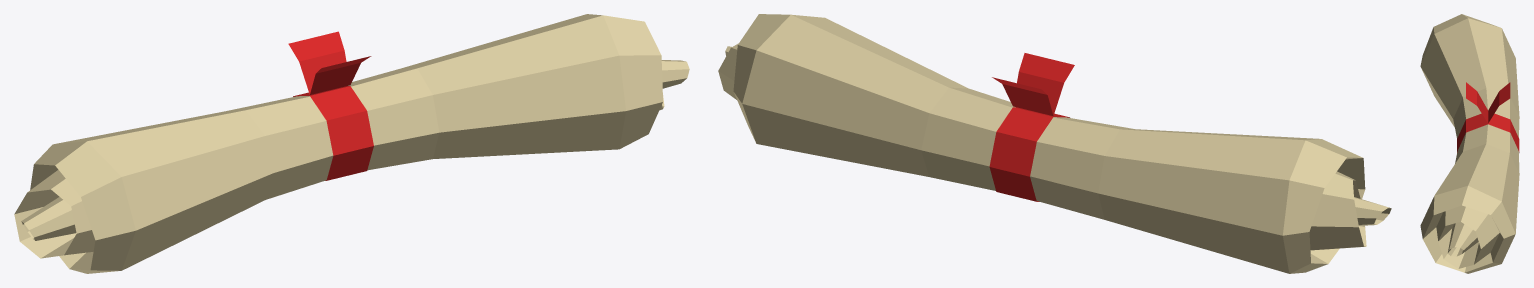
Rendered from Scroll.FBX.
3 views of the same model, side by side, from view 1: azimuth 30°, elevation 25°; view 2: azimuth 150°, elevation 25°; view 3: azimuth 270°, elevation 25° (orthographic). The views are drawn at different scales.
Visible parts, largest first — view 1: Cylinder001, Object001; view 2: Cylinder001, Object001; view 3: Cylinder001, Object001.
Part boxes in pixels (<box>): Cylinder001: <box>14,14,689,273</box>; Object001: <box>288,31,373,180</box>; Cylinder001: <box>718,14,1391,273</box>; Object001: <box>989,53,1074,201</box>; Cylinder001: <box>1420,14,1519,273</box>; Object001: <box>1457,82,1519,152</box>.
Size of the model in its own units: 24.7 by 5.35 by 4.81.
